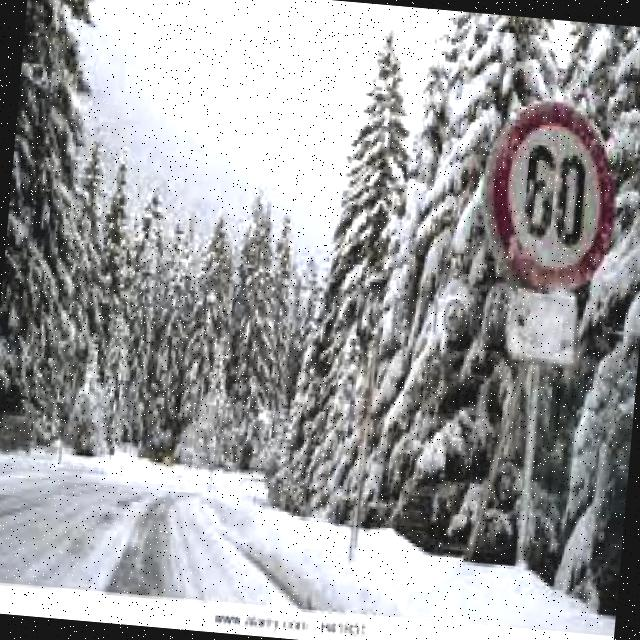Ograniczenie predkosci do 60: (474, 92, 620, 298)
